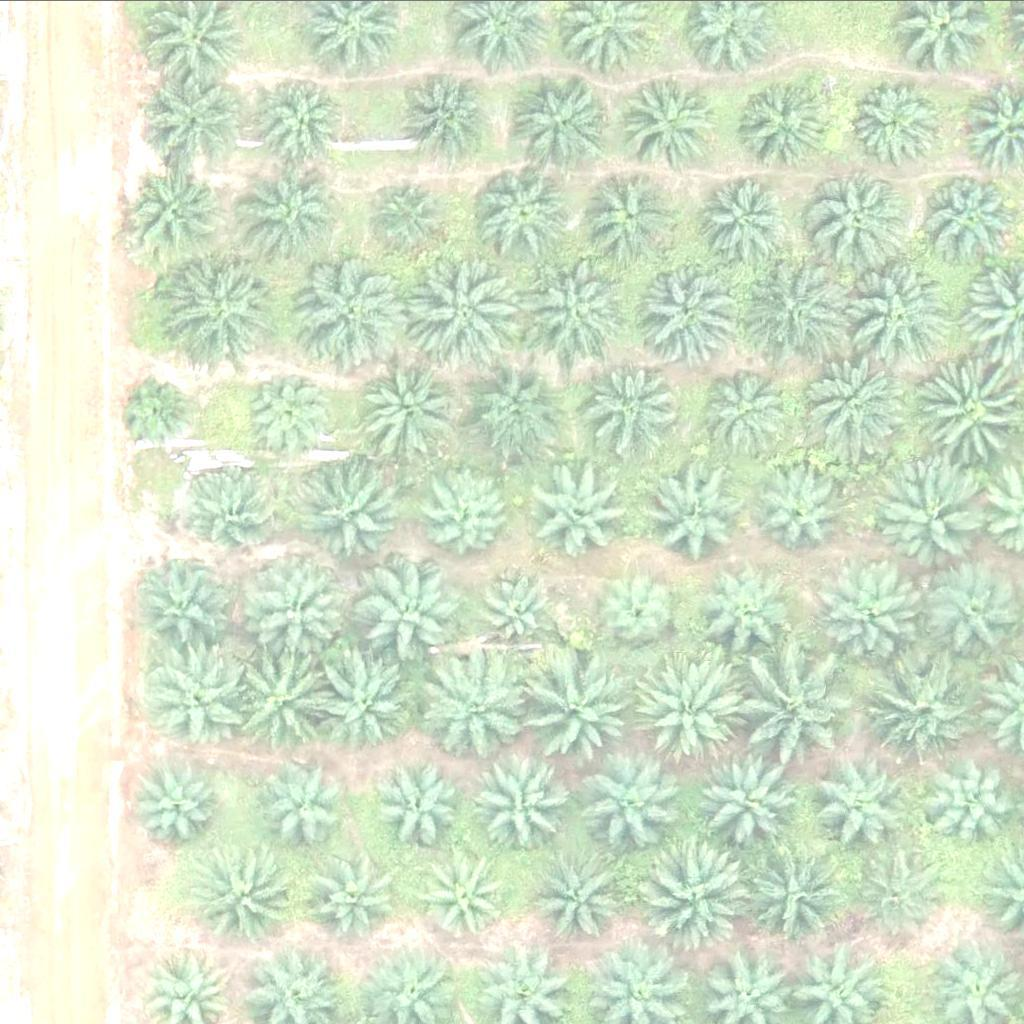Kelapa_Sawit: (795, 350, 909, 463), (414, 258, 528, 371), (843, 256, 957, 369), (635, 838, 748, 951), (144, 639, 257, 752), (521, 650, 634, 763), (634, 653, 747, 766), (297, 258, 410, 371), (737, 253, 850, 366), (744, 647, 858, 759), (418, 657, 531, 769), (164, 256, 277, 368), (845, 841, 946, 941), (195, 845, 296, 945), (748, 839, 849, 939), (475, 754, 576, 854), (584, 749, 685, 849), (701, 745, 802, 845), (813, 752, 914, 852), (242, 648, 343, 748), (312, 648, 413, 748), (877, 661, 978, 761), (825, 566, 926, 666), (247, 560, 348, 660), (139, 559, 240, 659), (876, 473, 977, 573), (355, 360, 456, 460), (534, 262, 635, 362), (643, 260, 744, 360), (578, 162, 679, 262), (129, 155, 230, 255), (623, 73, 724, 173), (357, 557, 457, 657), (305, 462, 405, 562), (522, 459, 622, 559), (638, 461, 738, 561), (923, 566, 1023, 666), (694, 363, 794, 463), (581, 356, 681, 456), (473, 357, 573, 457), (805, 162, 905, 262), (473, 163, 573, 263), (147, 67, 247, 167), (400, 62, 500, 162), (516, 69, 616, 169), (737, 69, 837, 169), (426, 853, 515, 941), (248, 367, 337, 455), (320, 849, 408, 937), (264, 760, 352, 848), (601, 566, 689, 654), (477, 562, 565, 650), (422, 473, 510, 561), (847, 78, 935, 166), (137, 763, 226, 850), (706, 569, 795, 656), (255, 71, 344, 158), (542, 856, 630, 943), (380, 762, 468, 849), (195, 467, 283, 554), (755, 466, 843, 553), (703, 179, 791, 266), (254, 168, 342, 255), (376, 179, 452, 254), (122, 373, 197, 448)
